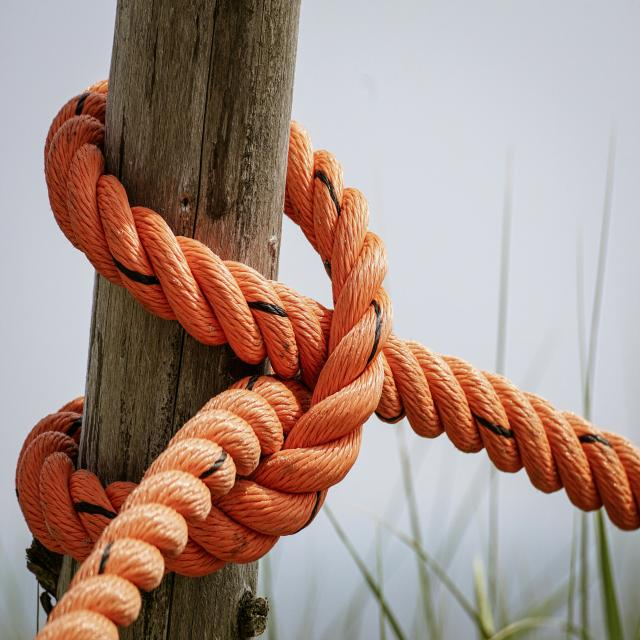Rope: (14, 59, 640, 640)
